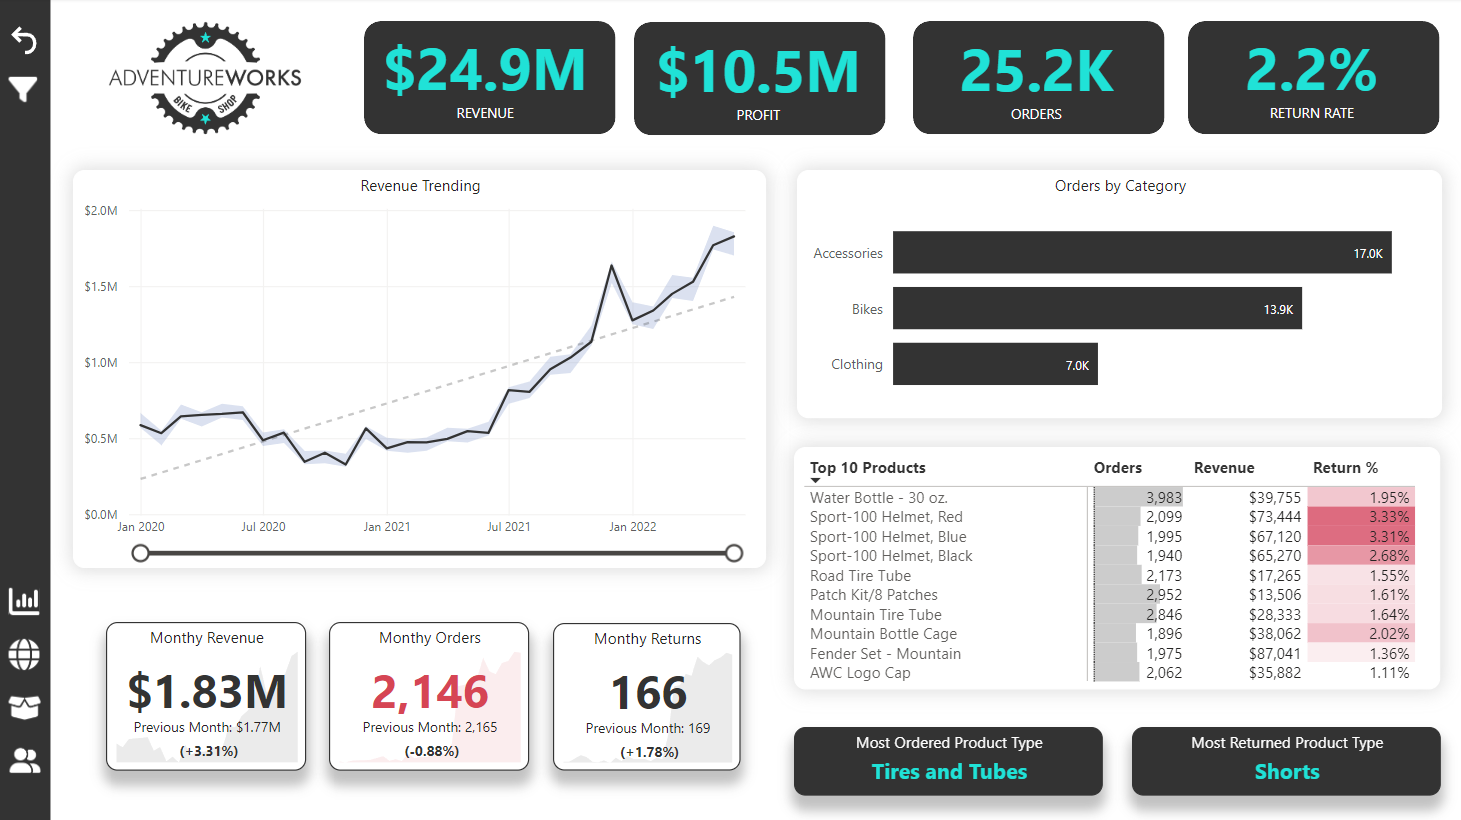

Layout of this report page (visuals, bound fields, positions):
{"tool":"powerbi","page":{"name":"Exec Dashboard","canvas":[1280,720],"ordinal":0},"visuals":[{"type":"group","id":"g1","title":"KPI Background","box":[319.3,20.2,940,100],"z":0},{"type":"shape","box":[1039.3,20.2,220,99],"z":0,"group":"g1"},{"type":"actionButton","box":[4.5,508.1,35.3,39.8],"z":0,"group":"g2"},{"type":"image","title":"AW Logo","box":[72.2,9.8,216,120],"z":1000},{"type":"shape","box":[799.3,20.2,220,99],"z":1000,"group":"g1"},{"type":"actionButton","box":[4.5,554.3,35.3,39.8],"z":1000,"group":"g2"},{"type":"shape","box":[555.3,21.2,220,99],"z":2000,"group":"g1"},{"type":"kpi","title":"RETURN RATE","fields":{"Indicator":["Measure Table.Return Rate"],"TrendLine":["Calendar Lookup.Year"],"Goal":["Measure Table.Previous Year Return Rate"]},"box":[1040,24,216,96],"z":2000},{"type":"actionButton","box":[4.5,647.4,35.2,39.6],"z":2000,"group":"g2"},{"type":"shape","box":[319.3,20.2,220,99],"z":3000,"group":"g1"},{"type":"kpi","title":"ORDERS","fields":{"Indicator":["Measure Table.Total Orders"],"TrendLine":["Calendar Lookup.Year"],"Goal":["Measure Table.Previous Year Orders"]},"box":[800,24,216,96],"z":3000},{"type":"actionButton","box":[4.1,600.5,36.1,40.5],"z":3000,"group":"g2"},{"type":"shape","title":"Left Navbar Background","box":[0,0,45,720],"z":4000},{"type":"kpi","title":"PROFIT","fields":{"Indicator":["Measure Table.Total Profit"],"TrendLine":["Calendar Lookup.Year"],"Goal":["Measure Table.Previous Year Profit"]},"box":[560,24,216,96],"z":5000},{"type":"lineChart","title":"Revenue Trending","fields":{"Y":["Measure Table.Total Revenue"],"Category":["Calendar Lookup.Start of Month"]},"box":[64,320,608,344],"z":6000},{"type":"kpi","title":"Monthy Revenue","fields":{"Indicator":["Measure Table.Total Revenue"],"TrendLine":["Calendar Lookup.Start of Month"],"Goal":["Measure Table.Previous Month Revenue"]},"box":[84.2,150.4,174.6,129.8],"z":7000},{"type":"kpi","title":"Monthy Orders","fields":{"TrendLine":["Calendar Lookup.Start of Month"],"Indicator":["Measure Table.Total Orders"],"Goal":["Measure Table.Previous Month Orders"]},"box":[279.7,150.4,174.6,129.8],"z":8000},{"type":"kpi","title":"Monthy Returns","fields":{"TrendLine":["Calendar Lookup.Start of Month"],"Indicator":["Measure Table.Total Returns"],"Goal":["Measure Table.Previous Month Returns"]},"box":[475.3,150.7,163.8,129.5],"z":9000},{"type":"clusteredBarChart","title":"Orders by Category","fields":{"Category":["Product Category Lookup.CategoryName"],"Y":["Measure Table.Total Orders"]},"box":[696,152,560,216],"z":10000},{"type":"pivotTable","fields":{"Rows":["Product Lookup.ProductName"],"Values":["Measure Table.Total Orders","Measure Table.Total Revenue","Measure Table.Return Rate"]},"box":[695.4,392.9,564.8,212.1],"z":11000},{"type":"card","title":"Most Ordered Product Type","fields":{"Values":["Min(Product Subcategory Lookup.SubcategoryName)"]},"box":[694.9,637.5,269.8,60.5],"z":12000},{"type":"card","title":"Most Returned Product Type","fields":{"Values":["Min(Product Subcategory Lookup.SubcategoryName)"]},"box":[990.6,637.5,269.8,60.5],"z":13000},{"type":"actionButton","box":[5.4,19.9,34.4,33.5],"z":14000},{"type":"group","id":"g2","title":"Navigation Buttons","box":[4.1,508.1,36.1,178.9],"z":15000},{"type":"actionButton","box":[4.4,60.3,33.2,40.2],"z":16000},{"type":"kpi","title":"REVENUE","fields":{"Indicator":["Measure Table.Total Revenue"],"Goal":["Measure Table.Previous Year Revenue"],"TrendLine":["Calendar Lookup.Year"]},"box":[320,24,216,96],"z":18000}]}

Visuals, with their boxes on the page's 1280x720 design canvas (x1, y1, x2, y2). These are canvas units, not pixel positions in the 1461x820 screenshot, which may show the page scaled, cropped or inside an application window:
"KPI Background" group: <box>319,20,1259,120</box>
shape: <box>1039,20,1259,119</box>
actionButton: <box>4,508,40,548</box>
"AW Logo" image: <box>72,10,288,130</box>
shape: <box>799,20,1019,119</box>
actionButton: <box>4,554,40,594</box>
shape: <box>555,21,775,120</box>
"RETURN RATE" kpi: <box>1040,24,1256,120</box>
actionButton: <box>4,647,40,687</box>
shape: <box>319,20,539,119</box>
"ORDERS" kpi: <box>800,24,1016,120</box>
actionButton: <box>4,600,40,641</box>
"Left Navbar Background" shape: <box>0,0,45,720</box>
"PROFIT" kpi: <box>560,24,776,120</box>
"Revenue Trending" lineChart: <box>64,320,672,664</box>
"Monthy Revenue" kpi: <box>84,150,259,280</box>
"Monthy Orders" kpi: <box>280,150,454,280</box>
"Monthy Returns" kpi: <box>475,151,639,280</box>
"Orders by Category" clusteredBarChart: <box>696,152,1256,368</box>
pivotTable - Product Lookup.ProductName x Measure Table.Total Orders: <box>695,393,1260,605</box>
"Most Ordered Product Type" card: <box>695,638,965,698</box>
"Most Returned Product Type" card: <box>991,638,1260,698</box>
actionButton: <box>5,20,40,53</box>
"Navigation Buttons" group: <box>4,508,40,687</box>
actionButton: <box>4,60,38,100</box>
"REVENUE" kpi: <box>320,24,536,120</box>
